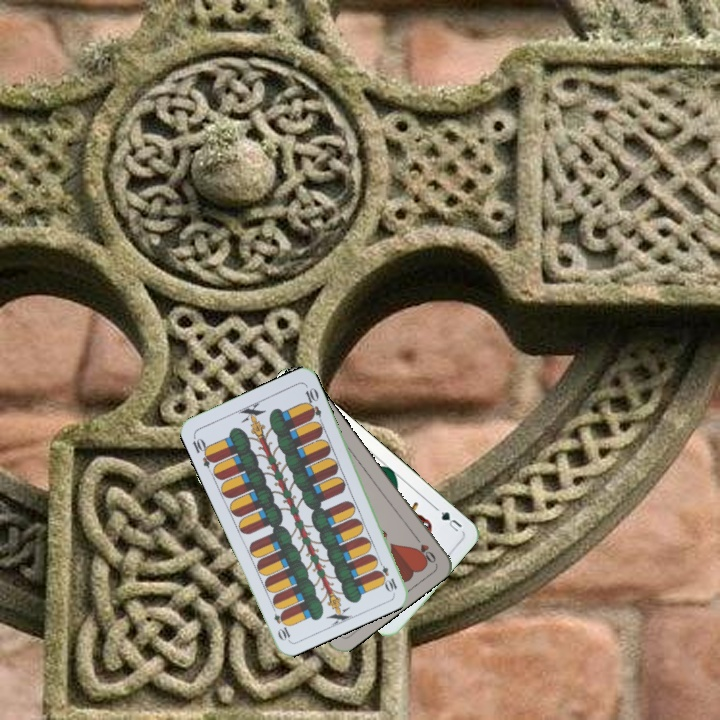E10: (188, 432, 218, 470), (373, 555, 400, 594)
GU: (437, 507, 465, 534)
HO: (410, 530, 439, 566)
